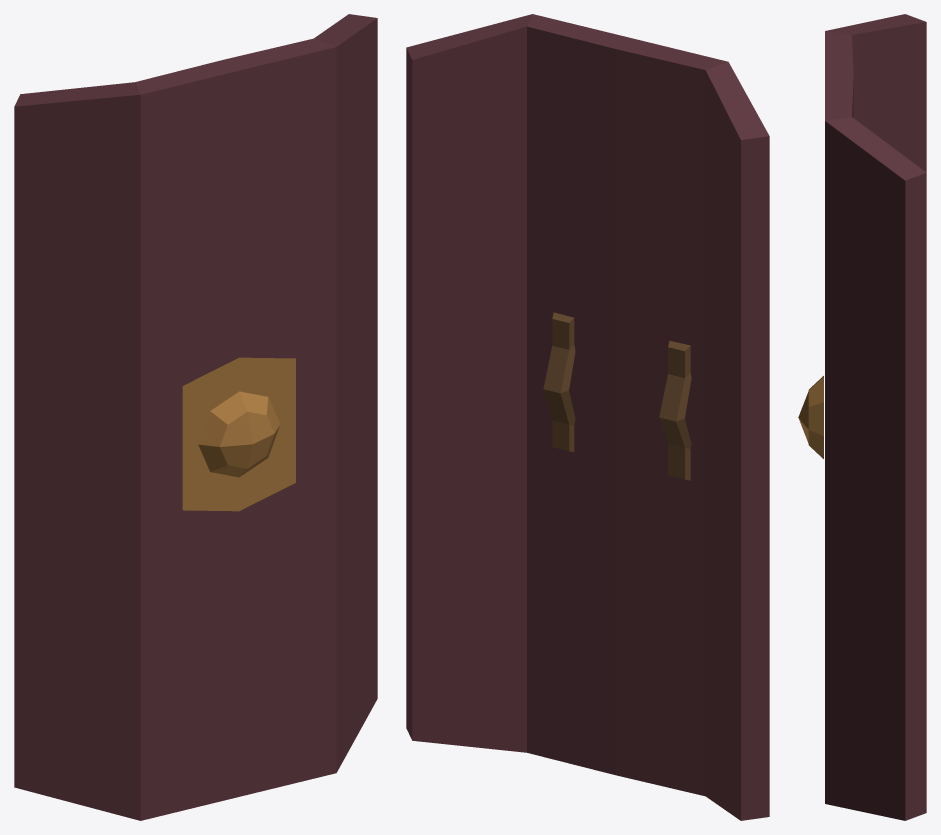
File: SM_Shield_Roman_Empire.fbx
3 renders of one model, left to right at view 1: azimuth 30°, elevation 25°; view 2: azimuth 150°, elevation 25°; view 3: azimuth 270°, elevation 25°, orthographic. The views are drawn at different scales.
Visible parts, largest first — view 1: SM_Shield_Roman_Empire; view 2: SM_Shield_Roman_Empire; view 3: SM_Shield_Roman_Empire.
Boxes of the visible parts, box(x1,y1,x2,y2) form: SM_Shield_Roman_Empire: box(14, 14, 377, 820); SM_Shield_Roman_Empire: box(406, 14, 769, 820); SM_Shield_Roman_Empire: box(798, 14, 926, 820).
Bounding box in the file's own units: 0.7776 × 1.49 × 0.2529.
